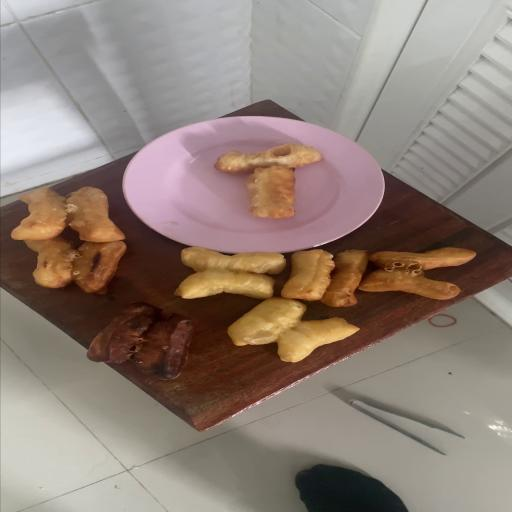street_burnt_defect: (87, 303, 192, 379), (358, 247, 475, 299), (72, 241, 126, 293)
street_golden_good: (176, 247, 358, 362), (216, 145, 321, 219), (12, 187, 124, 242)
